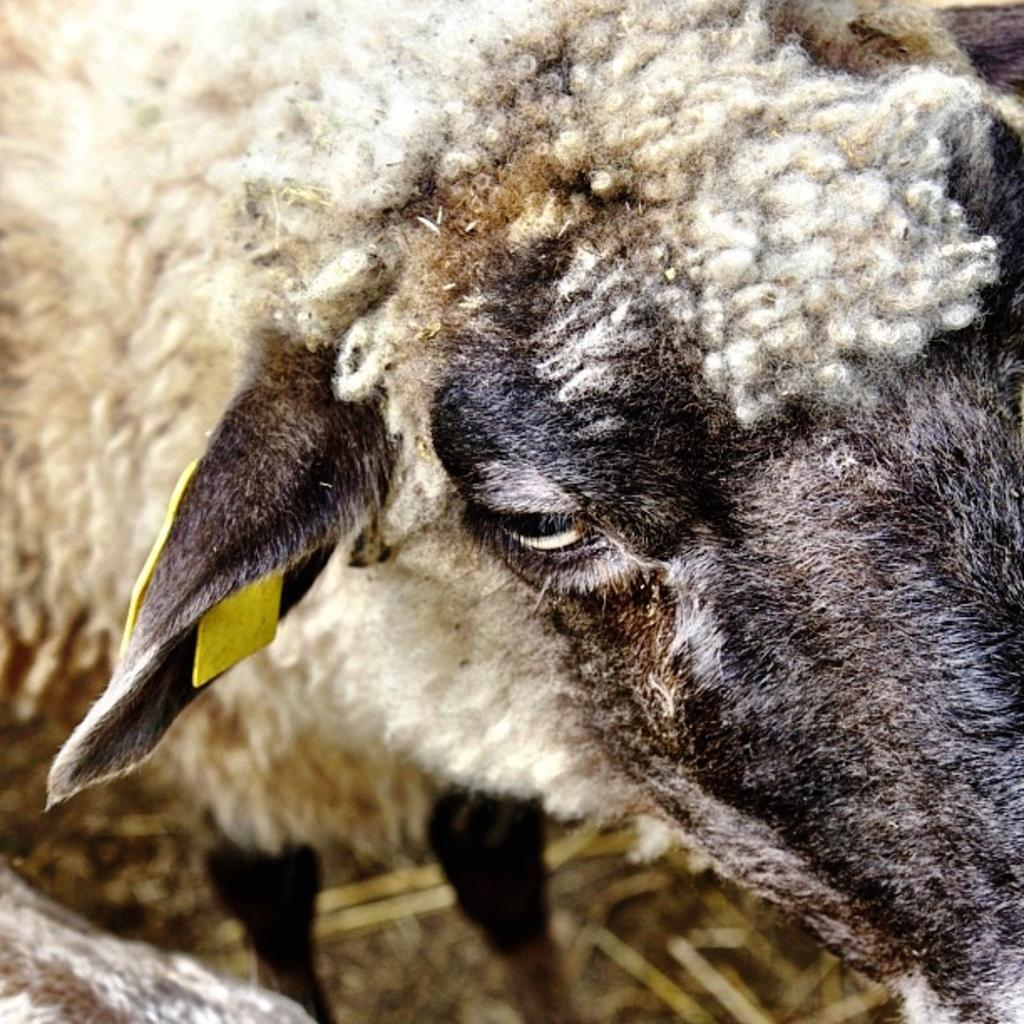Sheep: (0, 85, 1024, 1024)
